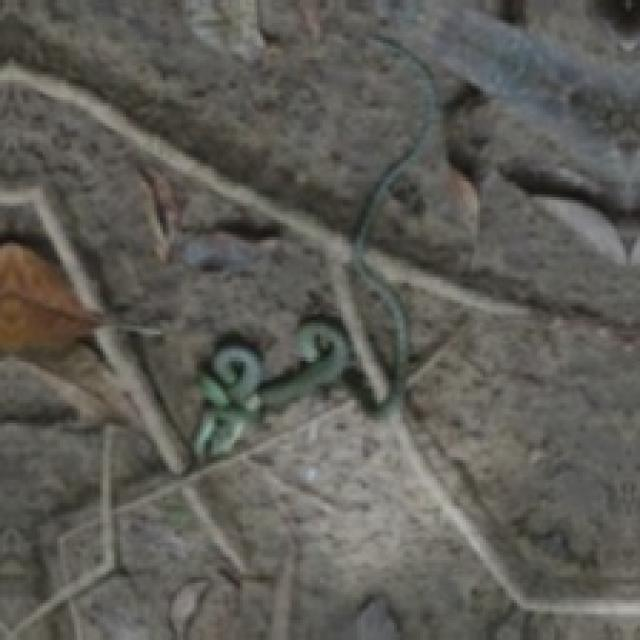paradise tree snake: (191, 37, 434, 460), (191, 317, 349, 460)
